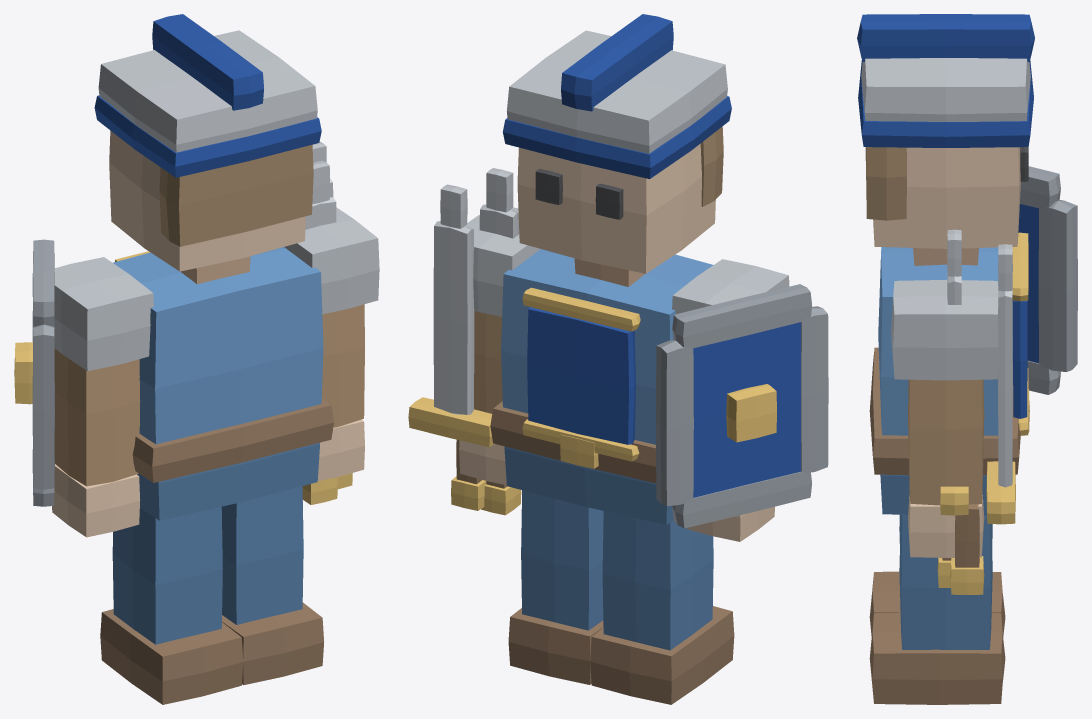
Rendered from 方块人_步兵.glb.
3 renders of one model, left to right at view 1: azimuth 30°, elevation 25°; view 2: azimuth 150°, elevation 25°; view 3: azimuth 270°, elevation 25°, orthographic. The views are drawn at different scales.
Parts seen in each view (by area): view 1: unit_body, unit_team, unit_trim; view 2: unit_body, unit_team, unit_trim; view 3: unit_body, unit_team, unit_trim.
Boxes of the visible parts, left/top/right/bottom form: unit_body: left=32, top=30, right=379, bottom=704; unit_team: left=94, top=14, right=321, bottom=177; unit_trim: left=14, top=251, right=150, bottom=404; unit_body: left=408, top=30, right=828, bottom=704; unit_team: left=503, top=14, right=800, bottom=497; unit_trim: left=522, top=287, right=776, bottom=468; unit_body: left=861, top=58, right=1077, bottom=704; unit_team: left=857, top=14, right=1038, bottom=418; unit_trim: left=1012, top=232, right=1029, bottom=435.
Size of the model in its own units: 1.05 by 1.68 by 0.5209.
